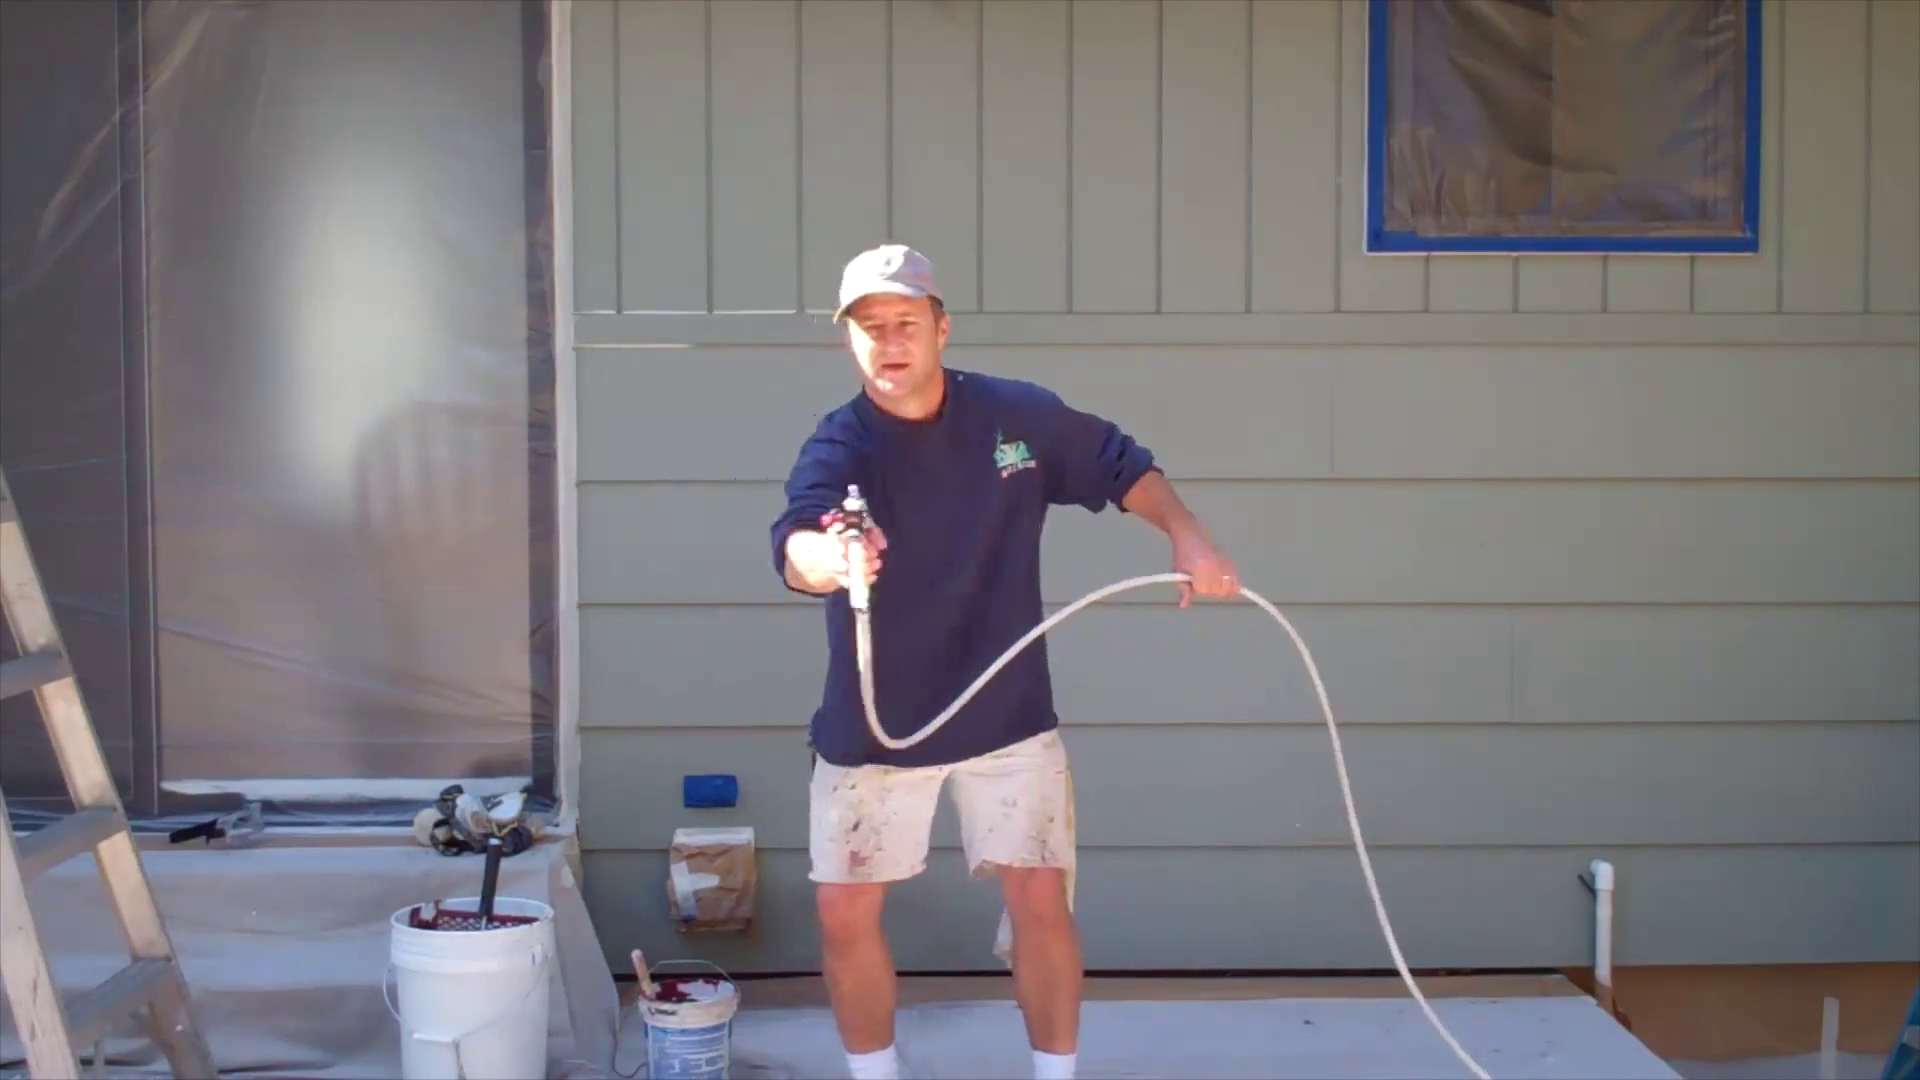person: (771, 244, 1240, 1080)
